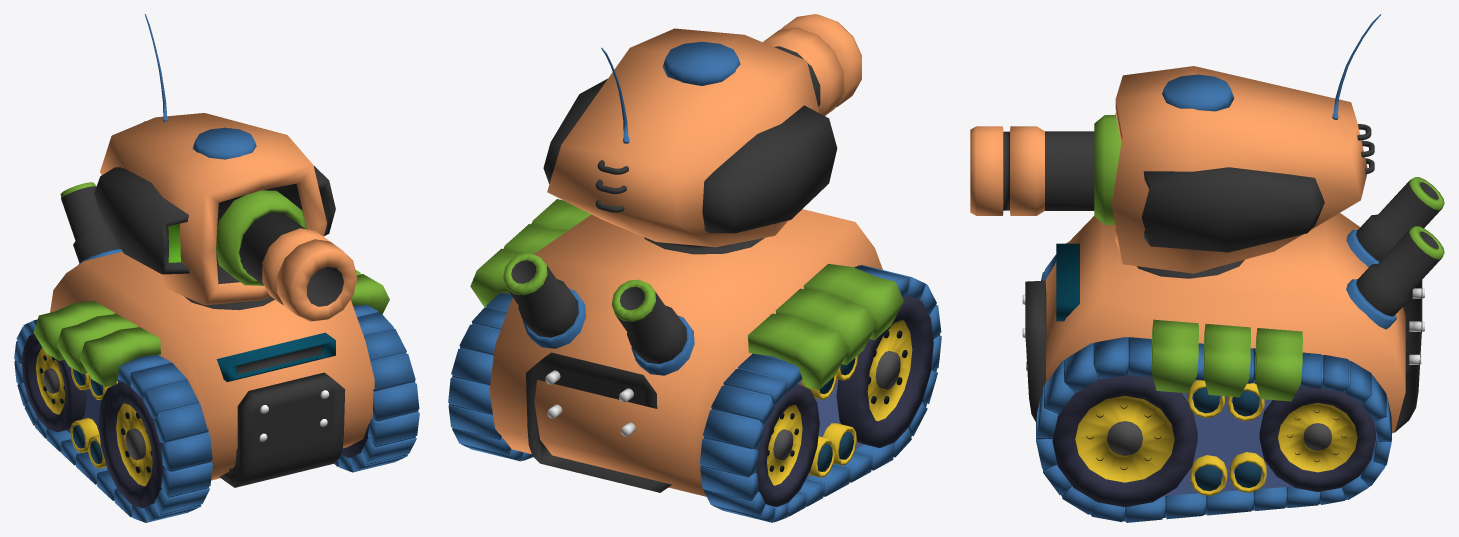
Rendered from Tank8.fbx.
The picture shows the model from 3 angles, left to right: view 1: azimuth 30°, elevation 25°; view 2: azimuth 150°, elevation 25°; view 3: azimuth 270°, elevation 25°; orthographic projection. The views are drawn at different scales.
Visible parts, largest first — view 1: Tank8, Tank8.Turret, Tank8.Wheel2, Tank8.Wheel4; view 2: Tank8, Tank8.Turret, Tank8.Wheel2, Tank8.Wheel4; view 3: Tank8, Tank8.Turret, Tank8.Wheel1, Tank8.Wheel3.
Boxes of the visible parts, <box> form: Tank8: <box>14,182,419,522</box>; Tank8.Turret: <box>94,14,357,321</box>; Tank8.Wheel2: <box>98,382,164,508</box>; Tank8.Wheel4: <box>22,334,86,432</box>; Tank8: <box>448,199,941,522</box>; Tank8.Turret: <box>543,14,861,254</box>; Tank8.Wheel2: <box>836,295,933,447</box>; Tank8.Wheel4: <box>756,384,819,506</box>; Tank8: <box>1022,177,1444,522</box>; Tank8.Turret: <box>970,14,1381,278</box>; Tank8.Wheel1: <box>1052,374,1197,507</box>; Tank8.Wheel3: <box>1259,387,1375,491</box>.
Size of the model in its own units: 1.6 by 2.06 by 2.
